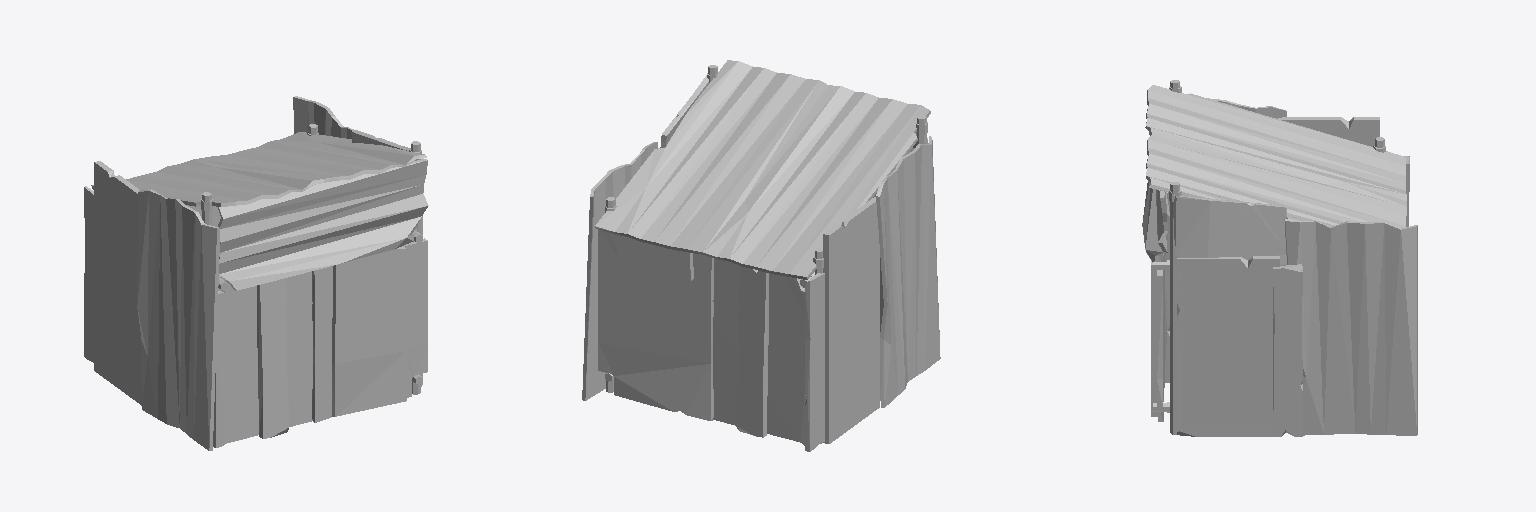
The model's file is SciFi_Building_Shack01.obj.
The picture shows the model from 3 angles: view 1: azimuth 30°, elevation 25°; view 2: azimuth 150°, elevation 25°; view 3: azimuth 270°, elevation 25°; orthographic projection.
Parts seen in each view (by area): view 1: SM_Building_Shack_01; view 2: SM_Building_Shack_01; view 3: SM_Building_Shack_01.
Part boxes in pixels (bbox=[...]): SM_Building_Shack_01: bbox=[84, 96, 428, 450]; SM_Building_Shack_01: bbox=[582, 60, 940, 451]; SM_Building_Shack_01: bbox=[1142, 80, 1417, 436].
Bounding box in the file's own units: 1 × 1 × 1.